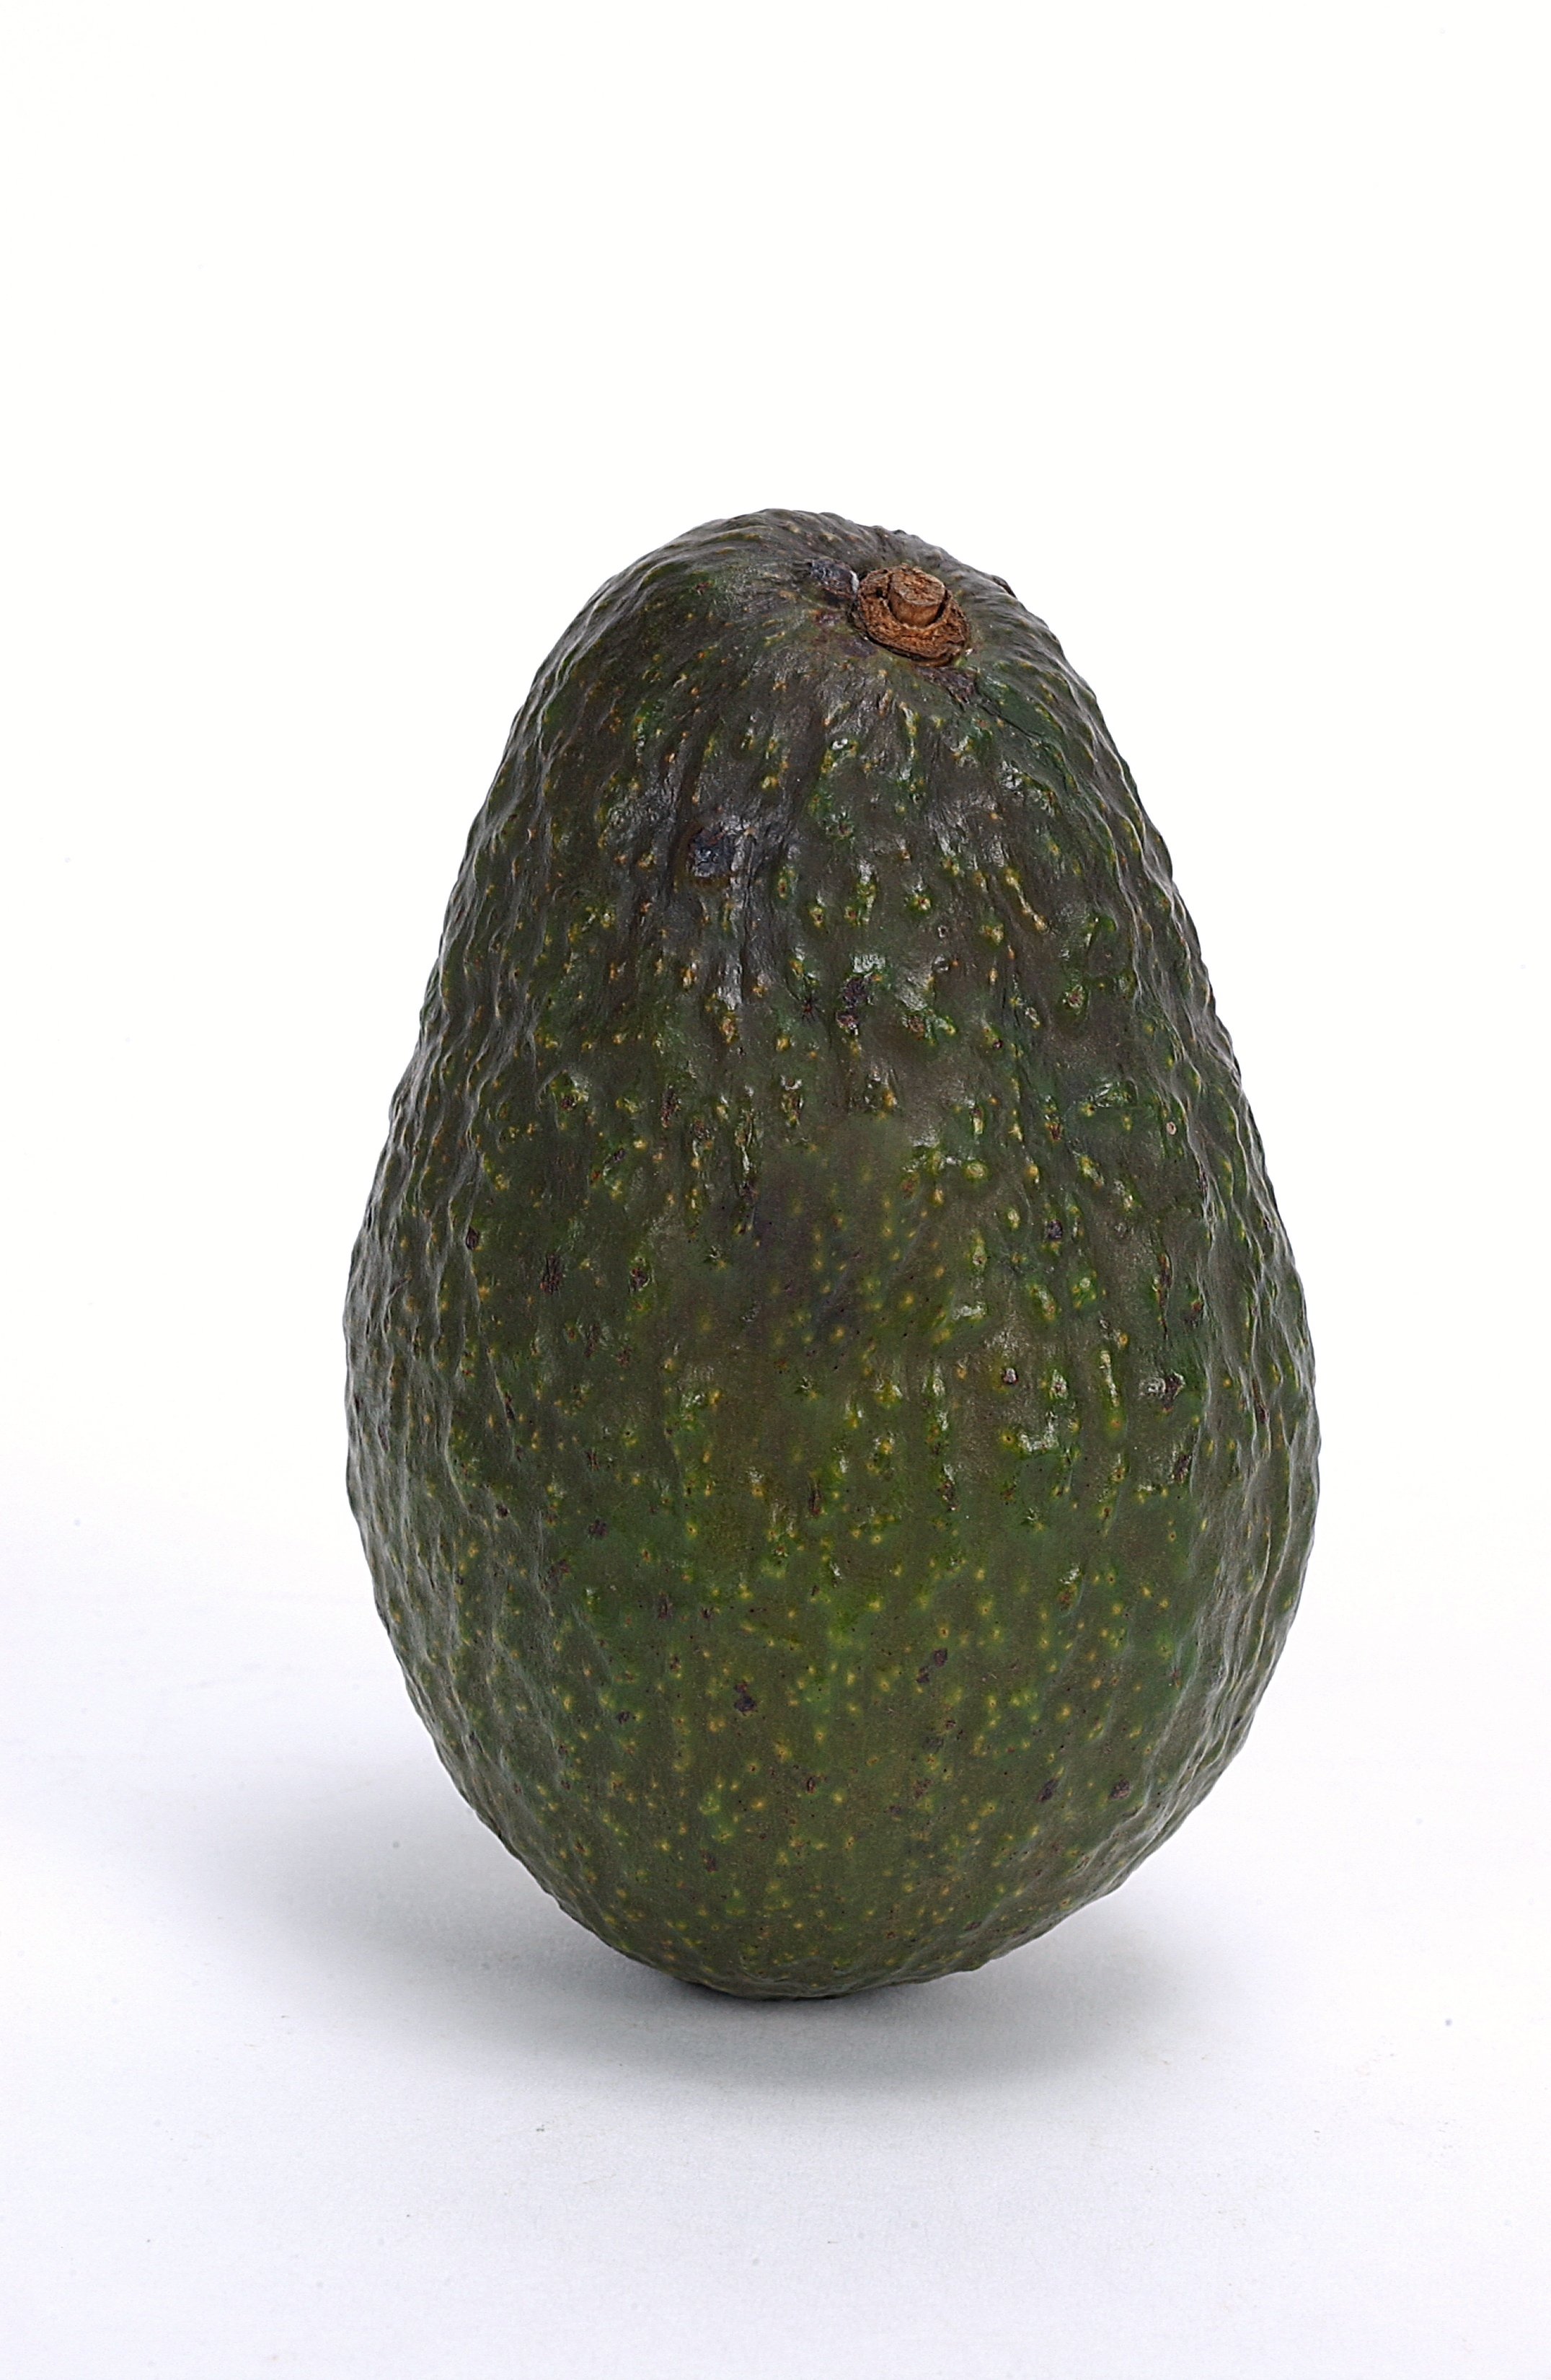unfit_avocado: (319, 444, 1372, 2050)
